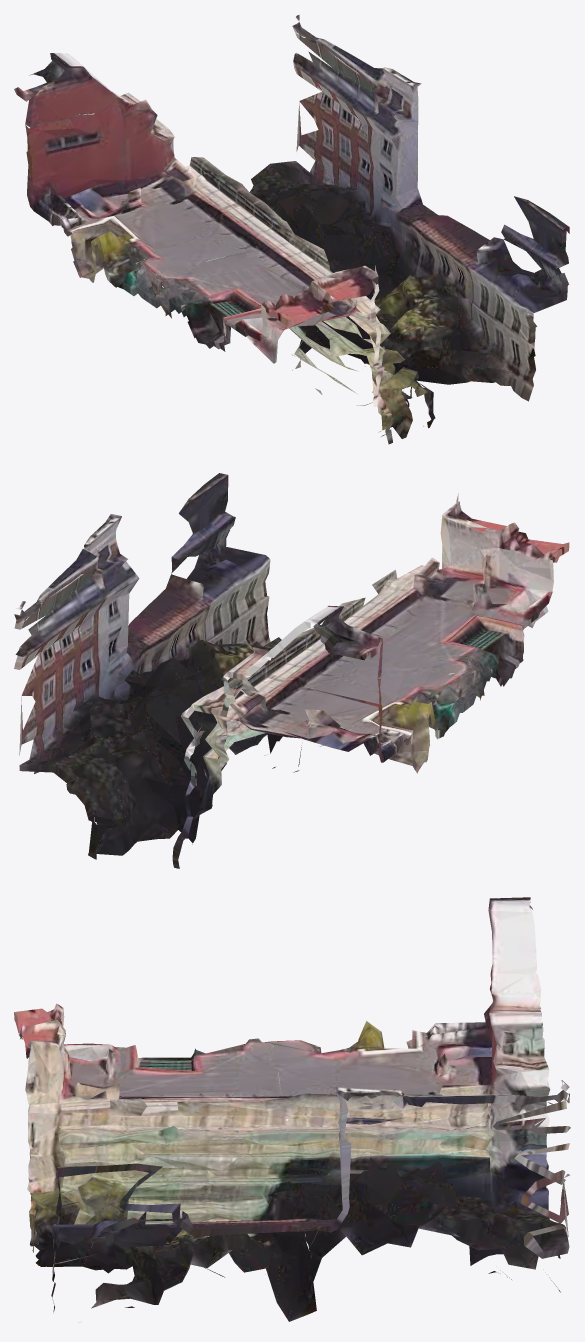
The picture shows the model from 3 angles, top to bottom: view 1: azimuth 30°, elevation 25°; view 2: azimuth 150°, elevation 25°; view 3: azimuth 270°, elevation 25°; orthographic projection. The views are drawn at different scales.
Parts seen in each view (by area): view 1: Mesh_0; view 2: Mesh_0; view 3: Mesh_0.
Part boxes in pixels (bbox=[...]): Mesh_0: bbox=[14, 14, 569, 444]; Mesh_0: bbox=[14, 473, 569, 868]; Mesh_0: bbox=[14, 897, 570, 1321].
Bounding box in the file's own units: 33.34 × 23.83 × 41.48.
Materials: 2 (2 with a texture image).
